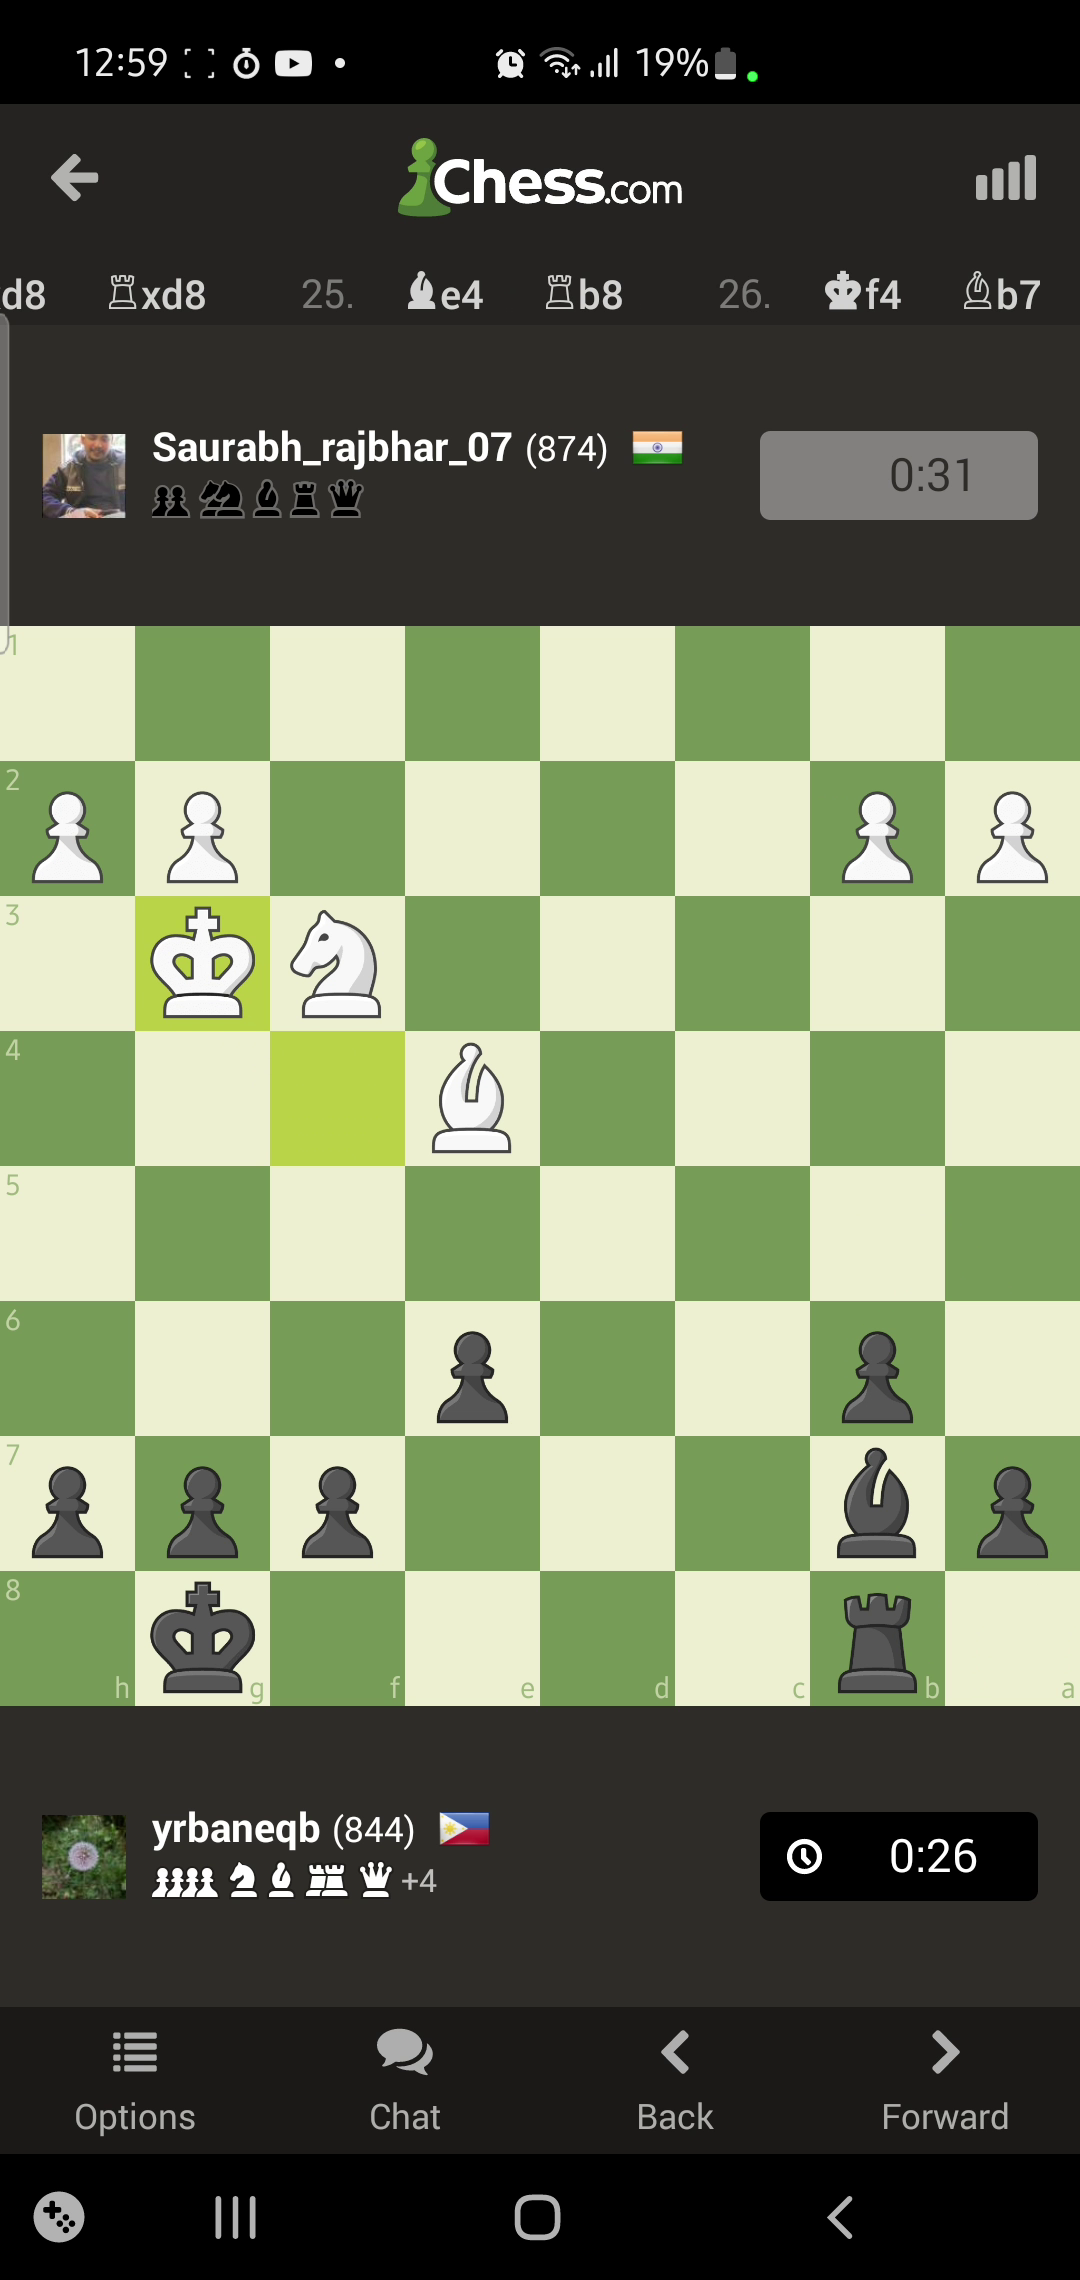king: (148, 906, 257, 1022), (150, 1581, 254, 1698)
